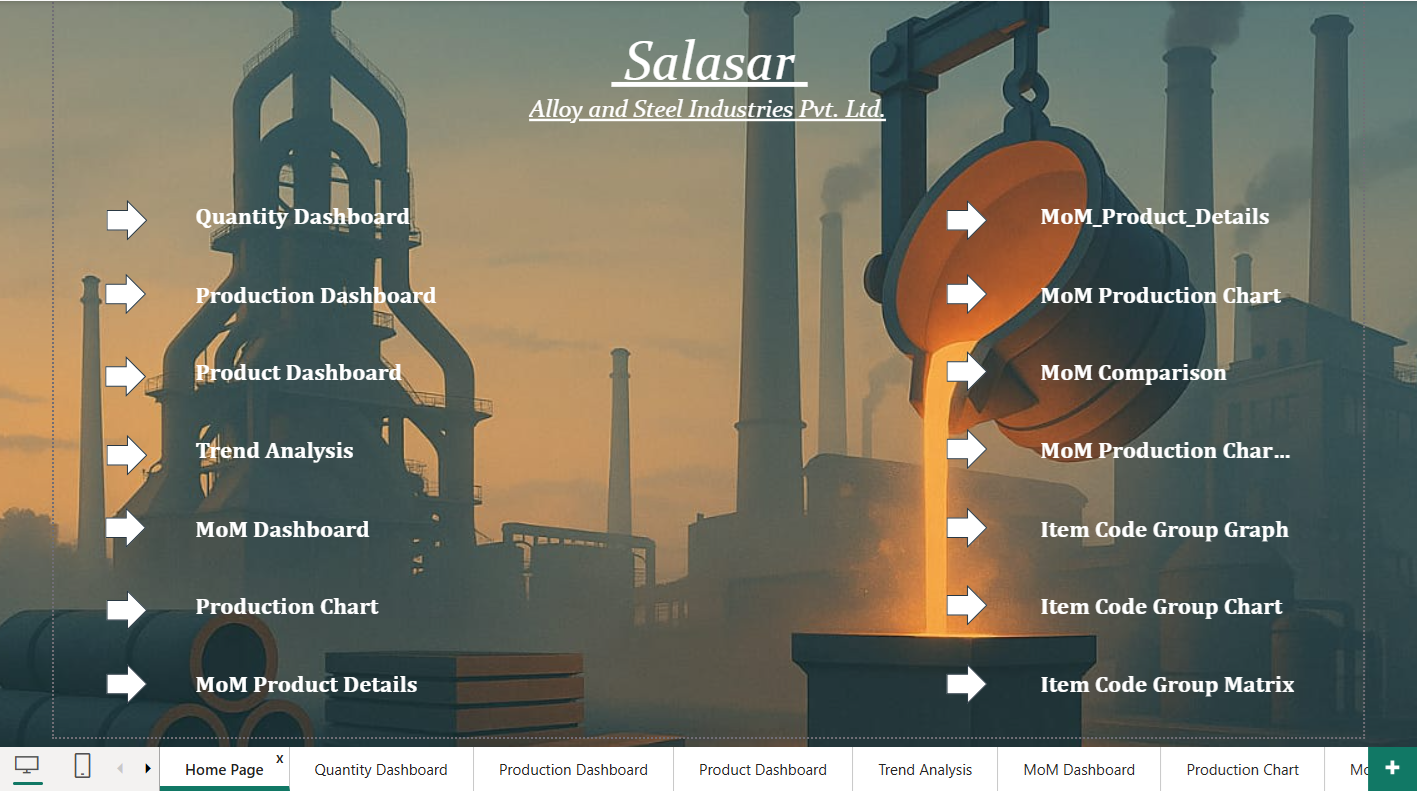

Layout of this report page (visuals, bound fields, positions):
{"tool":"powerbi","page":{"name":"Home Page","canvas":[1280,720],"ordinal":0},"visuals":[{"type":"textbox","box":[460,21.2,360,137.5],"z":0},{"type":"actionButton","box":[134.1,180,260,60],"z":1000},{"type":"actionButton","box":[134.1,256.2,260,60],"z":2000},{"type":"actionButton","box":[134.1,332.5,260,60],"z":3000},{"type":"actionButton","box":[134.1,408.8,260,60],"z":4000},{"type":"actionButton","box":[134.1,485,260,60],"z":5000},{"type":"actionButton","box":[134.3,561.2,260,60],"z":6000},{"type":"actionButton","box":[134.3,637.5,260,60],"z":7000},{"type":"actionButton","box":[961,180,260,60],"z":8000},{"type":"actionButton","box":[961,256.2,260,60],"z":9000},{"type":"actionButton","box":[961,332.5,260,60],"z":10000},{"type":"actionButton","box":[961,408.8,260,60],"z":11000},{"type":"actionButton","box":[961,485,260,60],"z":12000},{"type":"actionButton","box":[961,561.2,260,60],"z":13000},{"type":"actionButton","box":[961,637.5,260,60],"z":14000},{"type":"shape","box":[50,347.5,40,40],"z":15000},{"type":"shape","box":[50,266.2,40,40],"z":16000},{"type":"shape","box":[51.2,195,40,40],"z":17000},{"type":"shape","box":[51.2,576.2,40,40],"z":18000},{"type":"shape","box":[50,495,40,40],"z":19000},{"type":"shape","box":[51.2,423.8,40,40],"z":20000},{"type":"shape","box":[872.5,266.2,40,40],"z":21000},{"type":"shape","box":[872.5,195,40,40],"z":22000},{"type":"shape","box":[51.2,647.5,40,40],"z":23000},{"type":"shape","box":[872.5,495,40,40],"z":24000},{"type":"shape","box":[872.5,418.8,40,40],"z":25000},{"type":"shape","box":[872.5,342.5,40,40],"z":26000},{"type":"shape","box":[872.5,647.5,40,40],"z":27000},{"type":"shape","box":[872.5,571.2,40,40],"z":28000}]}

Visuals, with their boxes on the page's 1280x720 design canvas (x1, y1, x2, y2). These are canvas units, not pixel positions in the 1417x791 screenshot, which may show the page scaled, cropped or inside an application window:
textbox: 460, 21, 820, 159
actionButton: 134, 180, 394, 240
actionButton: 134, 256, 394, 316
actionButton: 134, 332, 394, 392
actionButton: 134, 409, 394, 469
actionButton: 134, 485, 394, 545
actionButton: 134, 561, 394, 621
actionButton: 134, 638, 394, 698
actionButton: 961, 180, 1221, 240
actionButton: 961, 256, 1221, 316
actionButton: 961, 332, 1221, 392
actionButton: 961, 409, 1221, 469
actionButton: 961, 485, 1221, 545
actionButton: 961, 561, 1221, 621
actionButton: 961, 638, 1221, 698
shape: 50, 348, 90, 388
shape: 50, 266, 90, 306
shape: 51, 195, 91, 235
shape: 51, 576, 91, 616
shape: 50, 495, 90, 535
shape: 51, 424, 91, 464
shape: 872, 266, 912, 306
shape: 872, 195, 912, 235
shape: 51, 648, 91, 688
shape: 872, 495, 912, 535
shape: 872, 419, 912, 459
shape: 872, 342, 912, 382
shape: 872, 648, 912, 688
shape: 872, 571, 912, 611
